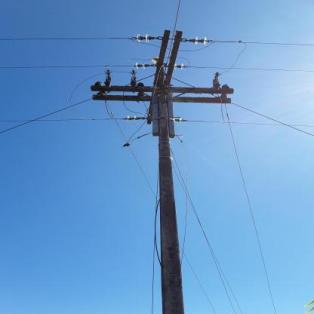Poste: (144, 58, 186, 314)
